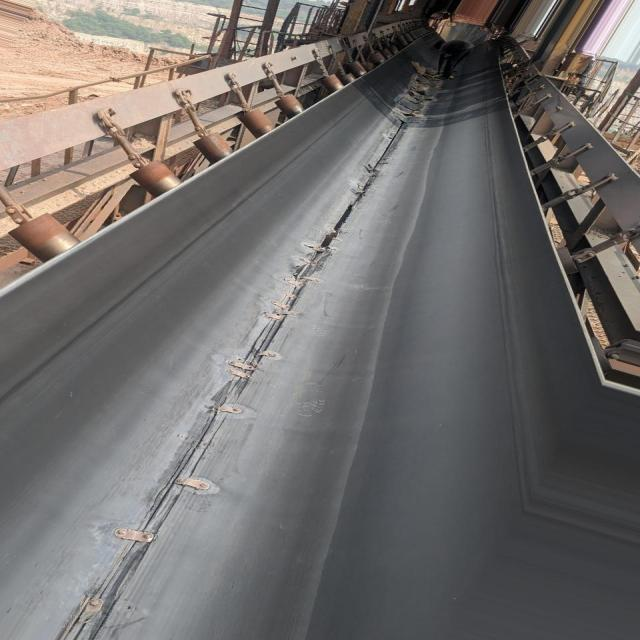Tear: (316, 116, 414, 254)
